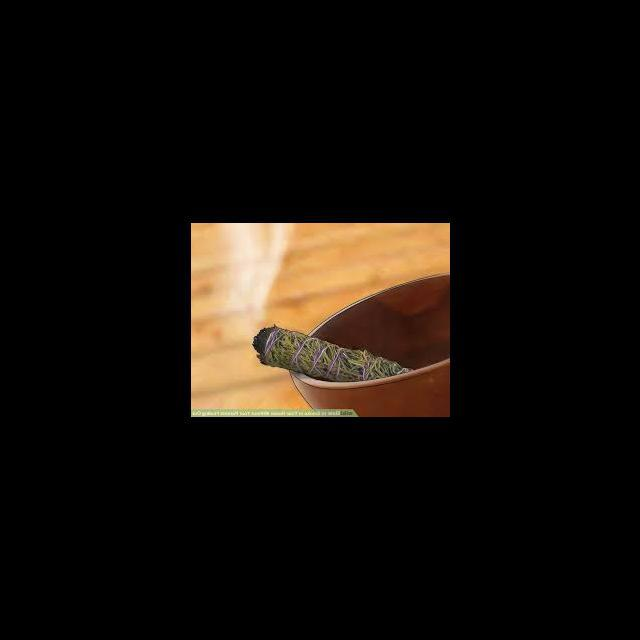Smoke: (210, 224, 292, 318)
